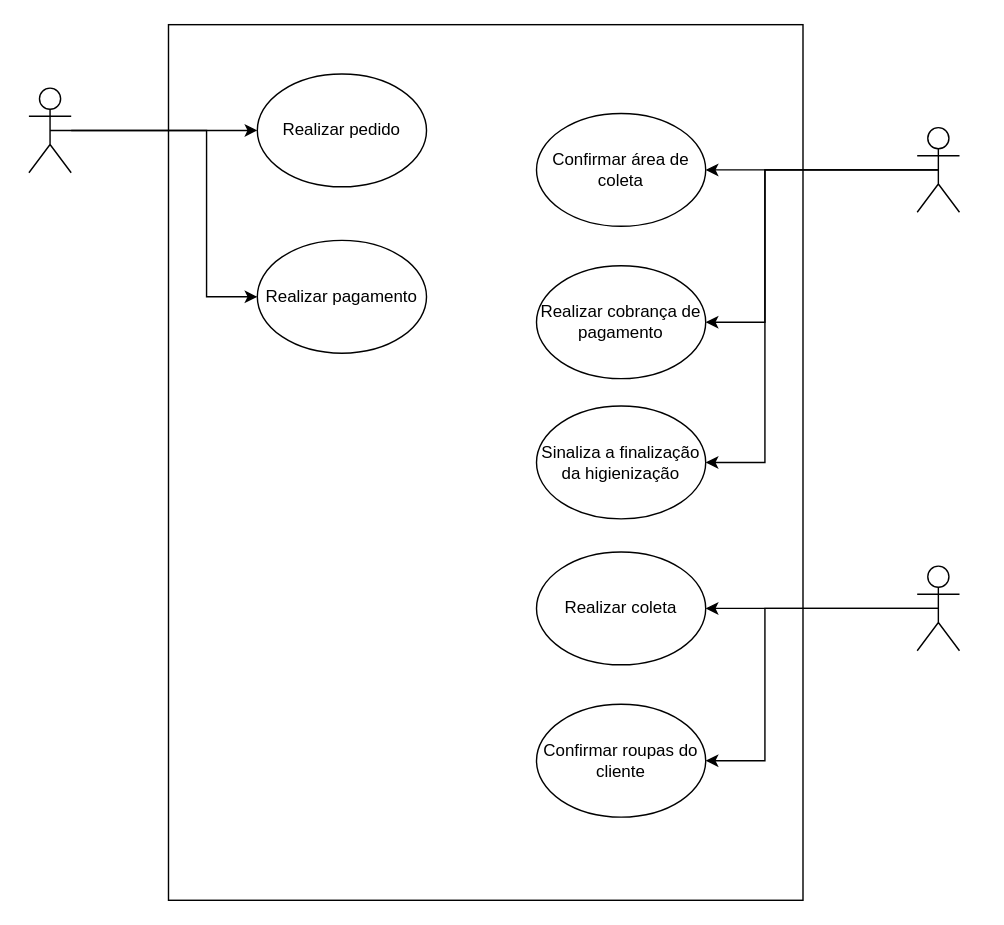
This 1004x925 diagram has some shape labels left out. Here are the shapes that lost their labels. From the top down, the centre of each, then its label:
At [49,130]: "Cliente".
At [938,169]: "Atendente".
At [938,608]: "Entregador".
